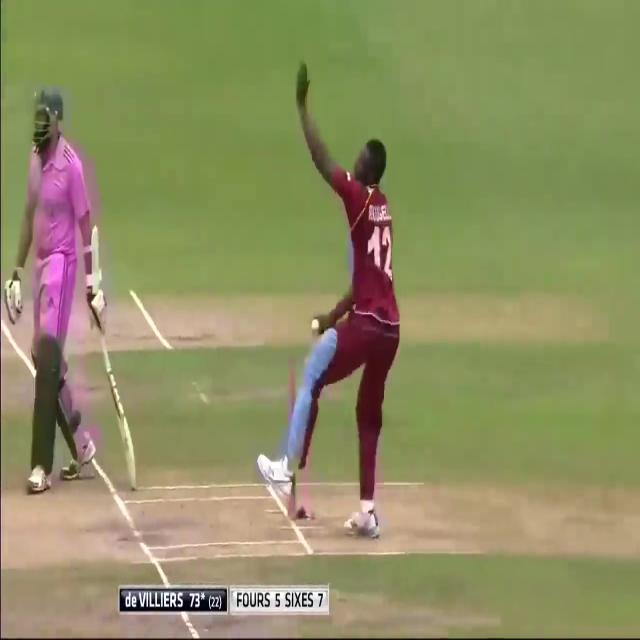Ball: (7, 84, 110, 496)
Fielder: (258, 62, 401, 514)
